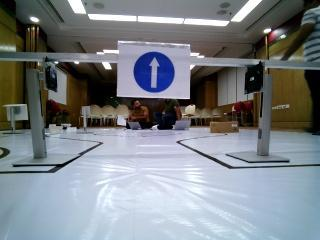straight: (120, 41, 192, 102)
